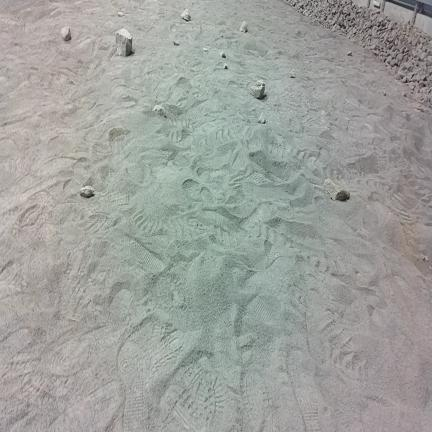Rock: (324, 179, 349, 200), (116, 28, 132, 57), (109, 128, 128, 141), (250, 81, 264, 98), (414, 104, 431, 114), (80, 186, 94, 197), (153, 105, 166, 116), (61, 27, 71, 41), (181, 9, 190, 21), (257, 113, 266, 123), (407, 72, 416, 81), (386, 21, 394, 31), (389, 30, 397, 40), (240, 21, 247, 32), (403, 46, 410, 55), (345, 6, 352, 15), (403, 62, 411, 69), (340, 16, 345, 27), (290, 69, 296, 78), (415, 92, 421, 101), (381, 40, 387, 49), (369, 39, 378, 45), (354, 17, 360, 26), (365, 9, 370, 19), (365, 20, 372, 27), (389, 57, 395, 65), (396, 53, 402, 61), (420, 52, 426, 60), (302, 0, 308, 8), (355, 8, 361, 16), (414, 68, 421, 74), (372, 30, 377, 38), (413, 38, 418, 46), (395, 73, 401, 79), (398, 41, 402, 50), (327, 15, 333, 21), (220, 51, 225, 58), (223, 63, 228, 70), (421, 74, 426, 81), (332, 18, 337, 25), (118, 12, 124, 17), (373, 50, 379, 55), (413, 50, 418, 56), (409, 83, 414, 89), (417, 44, 422, 50), (352, 28, 357, 34), (334, 14, 339, 20), (351, 12, 355, 19), (416, 74, 420, 81), (381, 90, 386, 95), (203, 47, 208, 52), (321, 110, 326, 115), (347, 51, 352, 56), (402, 77, 407, 82), (174, 41, 179, 45), (371, 45, 376, 49), (402, 92, 406, 97), (382, 57, 386, 62), (332, 8, 336, 13), (305, 11, 309, 16), (350, 30, 353, 34), (347, 23, 349, 29)
